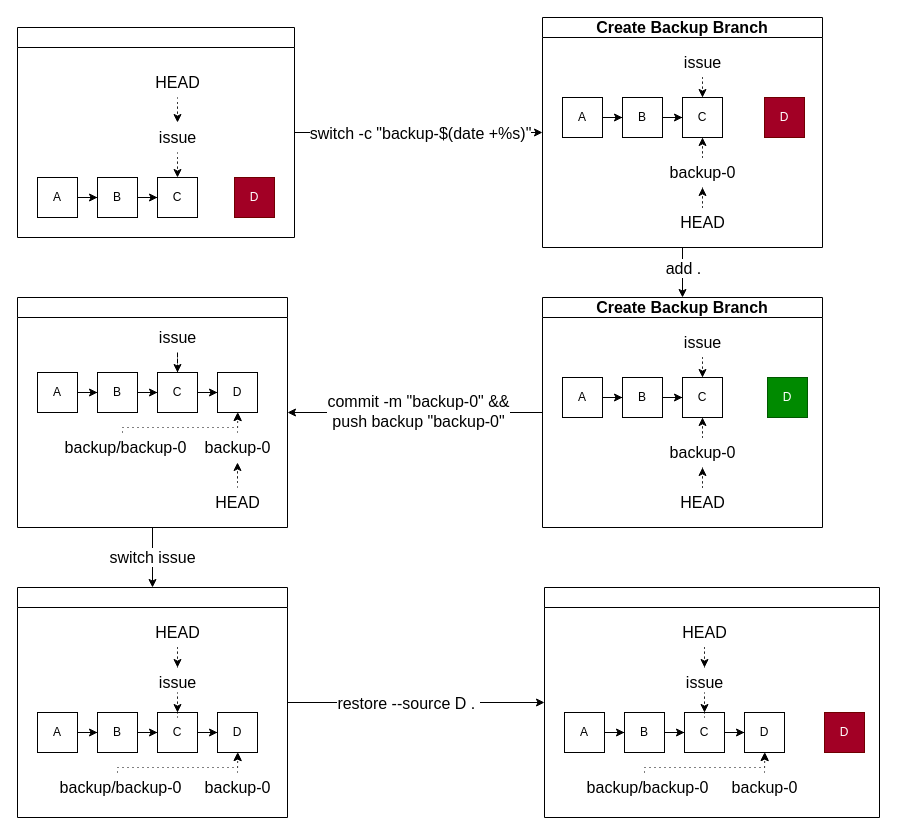
Some shapes in this 897 by 835 pixel diagram are drawn without their labels. The box of each missing label's shape, as (x1, y1, x2, y2) in pixels:
Commit to Backup Branch: (16, 296, 288, 528)
Restore Working Tree Files from D: (544, 586, 880, 818)
Switch to Issue: (16, 586, 288, 818)
Working on Local Machine: (16, 26, 294, 238)
